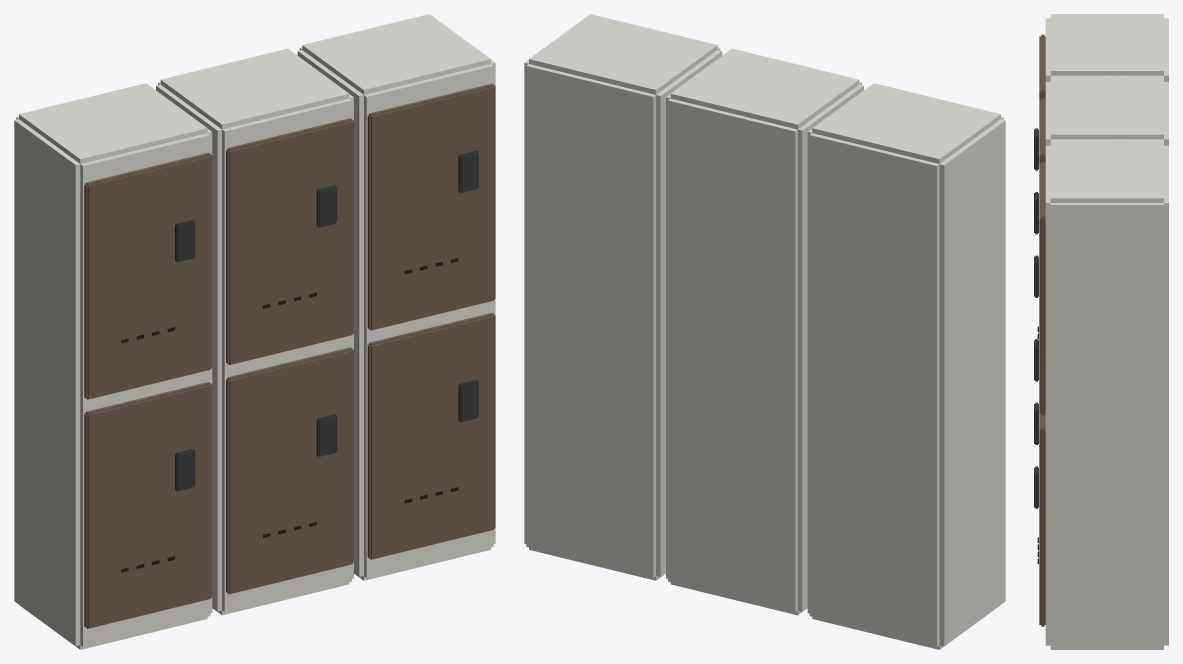
The model's file is visitor_lockers.glb.
3 views of the same model, side by side, from view 1: azimuth 30°, elevation 25°; view 2: azimuth 150°, elevation 25°; view 3: azimuth 270°, elevation 25° (orthographic). The views are drawn at different scales.
Visible parts, largest first — view 1: visitor_lockers_Toilet_walnut_laminate, visitor_lockers_Warm_white_coating, visitor_lockers_Anodised_graphite, visitor_lockers_Grip_rubber; view 2: visitor_lockers_Warm_white_coating; view 3: visitor_lockers_Warm_white_coating, visitor_lockers_Toilet_walnut_laminate, visitor_lockers_Anodised_graphite.
Boxes of the visible parts, left/top/right/bottom form: visitor_lockers_Toilet_walnut_laminate: left=84, top=83, right=495, bottom=628; visitor_lockers_Warm_white_coating: left=14, top=14, right=495, bottom=649; visitor_lockers_Anodised_graphite: left=175, top=150, right=478, bottom=491; visitor_lockers_Grip_rubber: left=121, top=258, right=458, bottom=572; visitor_lockers_Warm_white_coating: left=524, top=14, right=1005, bottom=649; visitor_lockers_Warm_white_coating: left=1045, top=14, right=1168, bottom=649; visitor_lockers_Toilet_walnut_laminate: left=1039, top=34, right=1045, bottom=626; visitor_lockers_Anodised_graphite: left=1034, top=128, right=1038, bottom=508.
Bounding box in the file's own units: 1.63 × 1.82 × 0.492.
